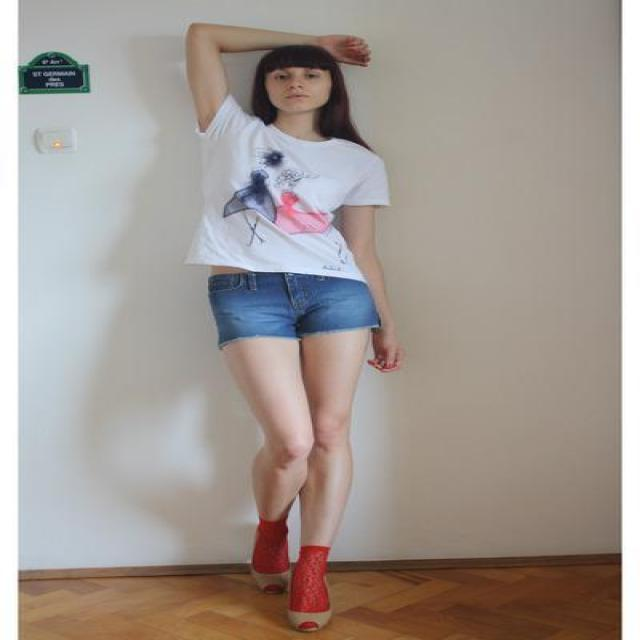shirt: (181, 96, 387, 281)
shoe: (229, 525, 347, 639)
shorts: (208, 271, 379, 342)
